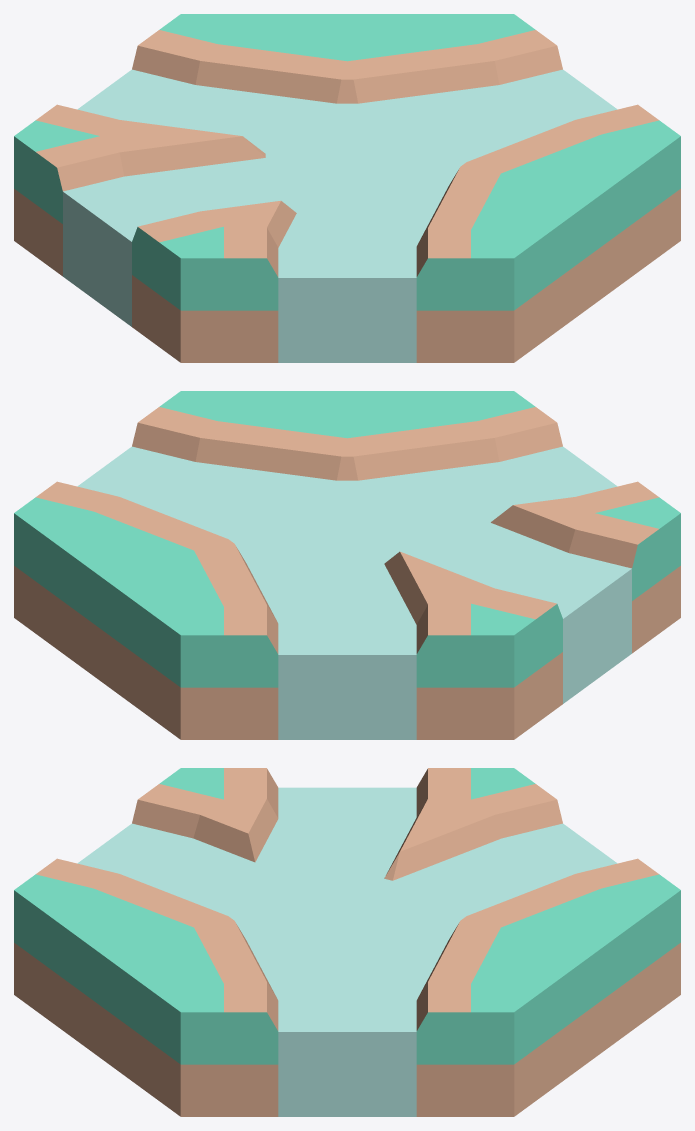
File: river_intersectionD.glb
3 views of the same model, one above another, from view 1: azimuth 30°, elevation 25°; view 2: azimuth 150°, elevation 25°; view 3: azimuth 270°, elevation 25° (orthographic).
Parts seen in each view (by area): view 1: river_intersectionD; view 2: river_intersectionD; view 3: river_intersectionD.
Boxes of the visible parts, x1=… form: river_intersectionD: x1=14, y1=14, x2=680, y2=362; river_intersectionD: x1=14, y1=391, x2=680, y2=739; river_intersectionD: x1=14, y1=768, x2=680, y2=1116.
Size of the model in its own units: 1 by 0.2 by 1.15.
